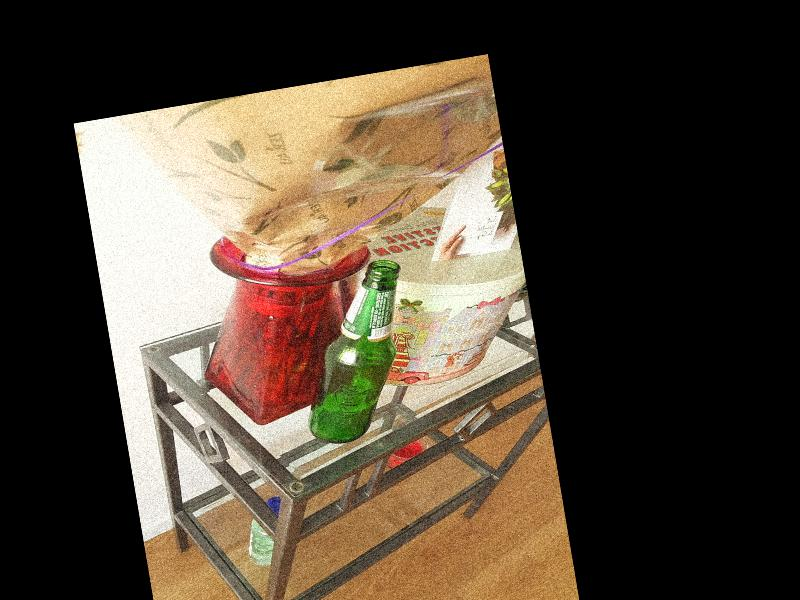Beer: (283, 257, 425, 448)
